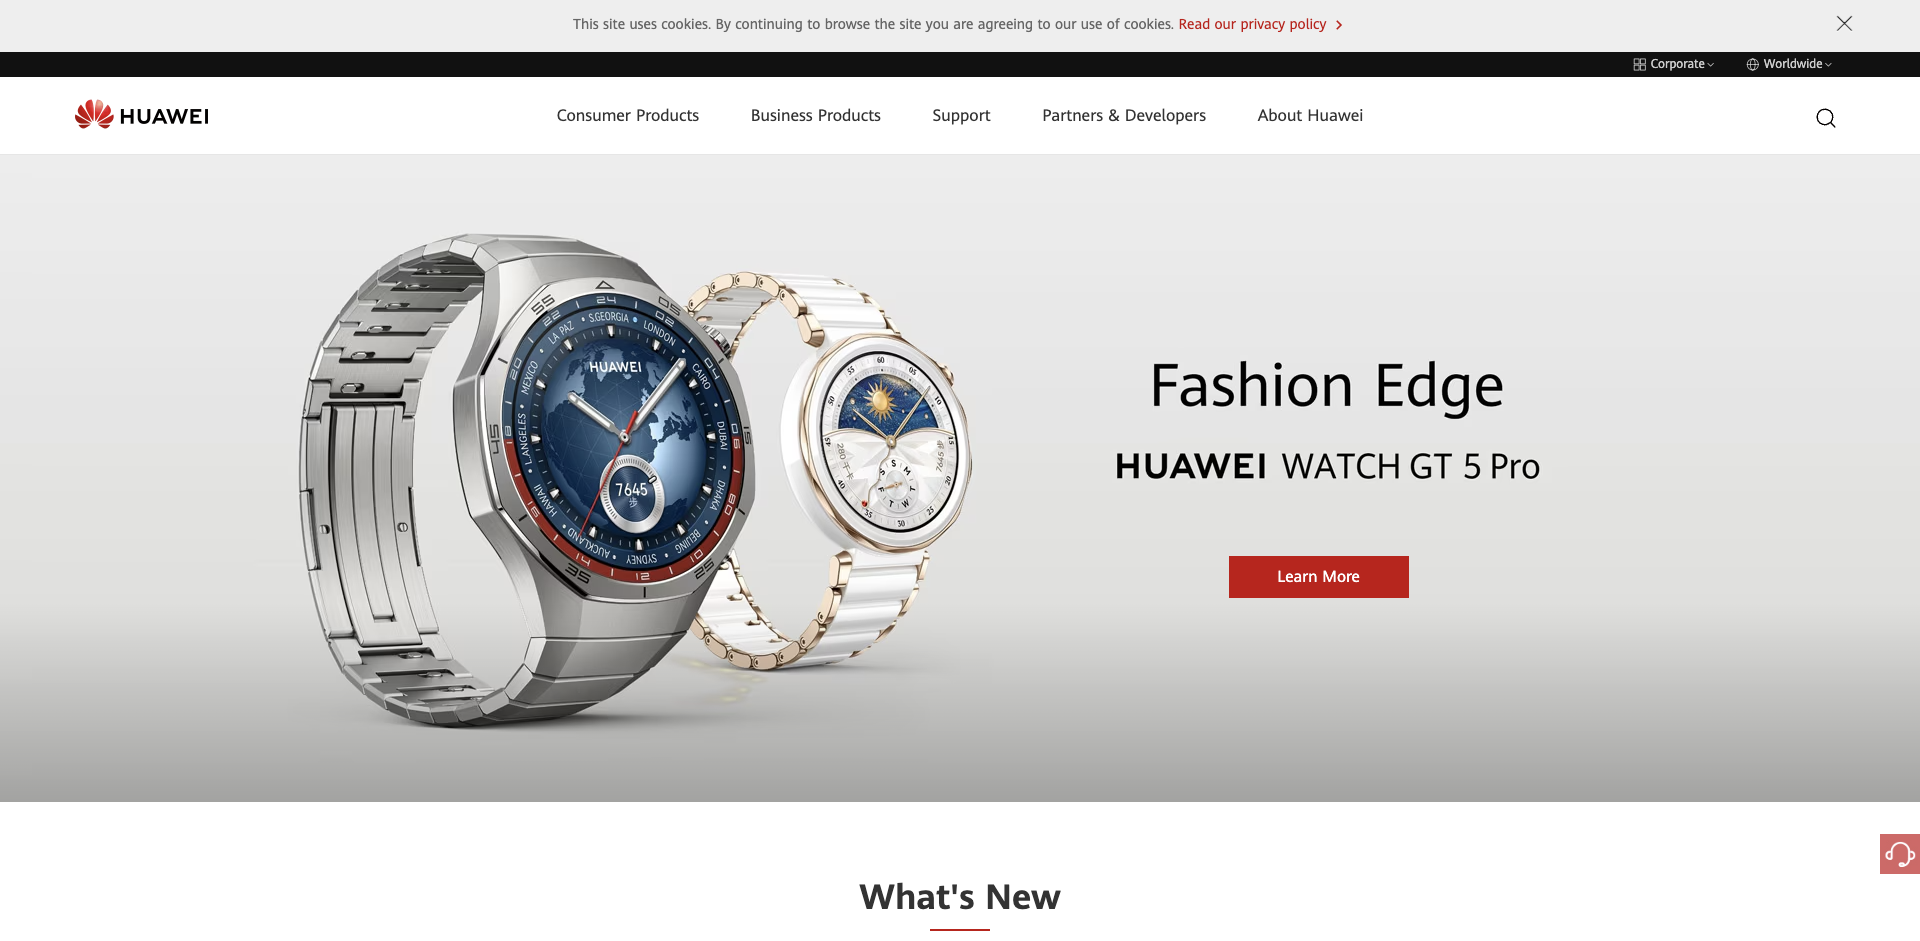button: (1042, 77, 1206, 154), (557, 77, 699, 154), (751, 77, 880, 154), (1258, 77, 1363, 154), (1228, 556, 1408, 598), (933, 77, 991, 154), (1813, 105, 1838, 126)
icon: (1880, 834, 1920, 874), (1633, 51, 1646, 77)
link: (76, 98, 208, 148), (1736, 51, 1844, 77), (1178, 16, 1347, 32), (1624, 51, 1727, 77), (1829, 9, 1860, 39)
